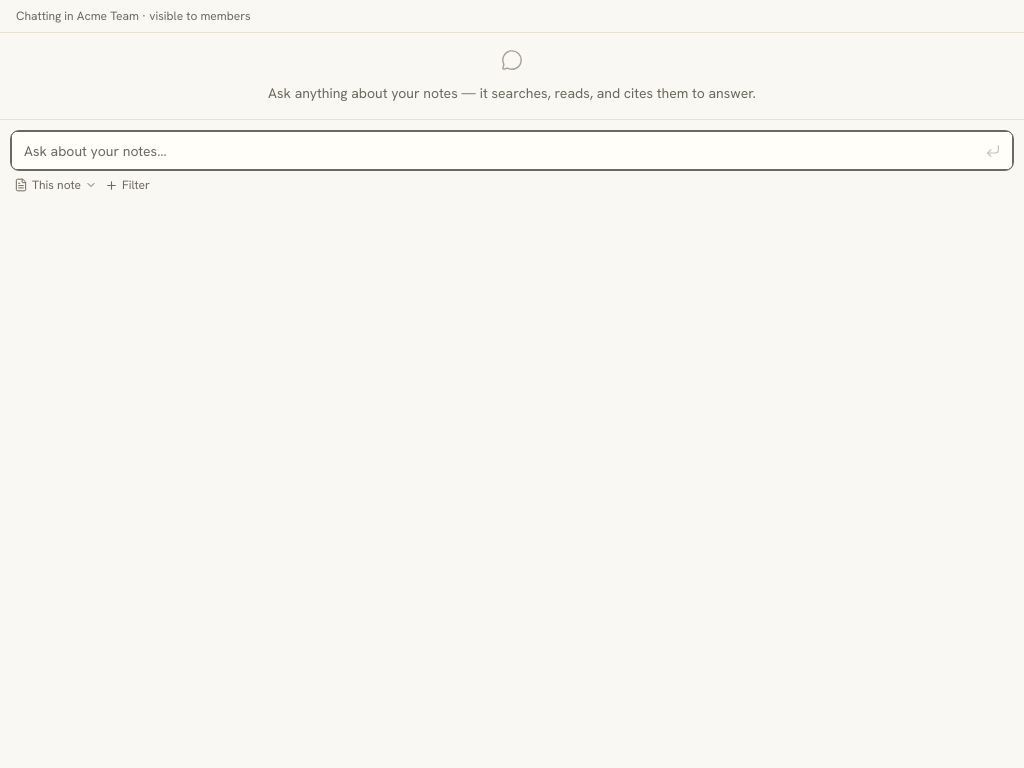
ChatPanel authorship pin › is absent under note breadth, and appears once the scope widens
Check: the text box with placeholder "Ask about your notes…" is shown, box [11, 131, 1013, 170]
Click the button with test id "chat-pin-picker". click: [128, 185]
box: [105, 177, 150, 193]
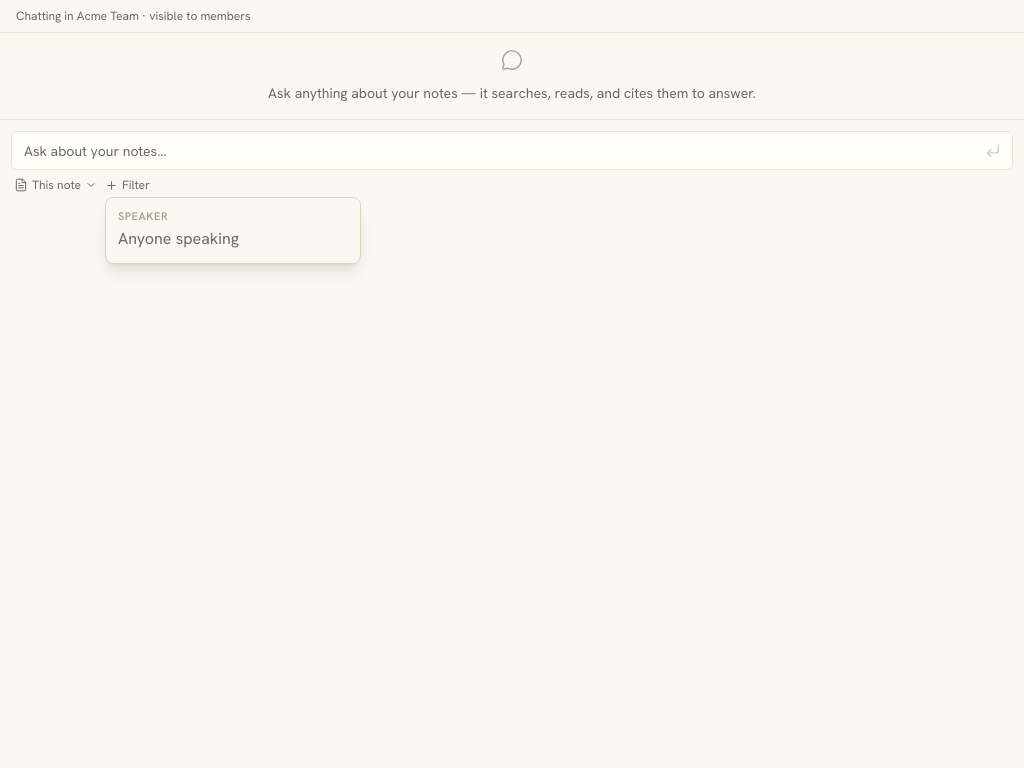
Press Escape
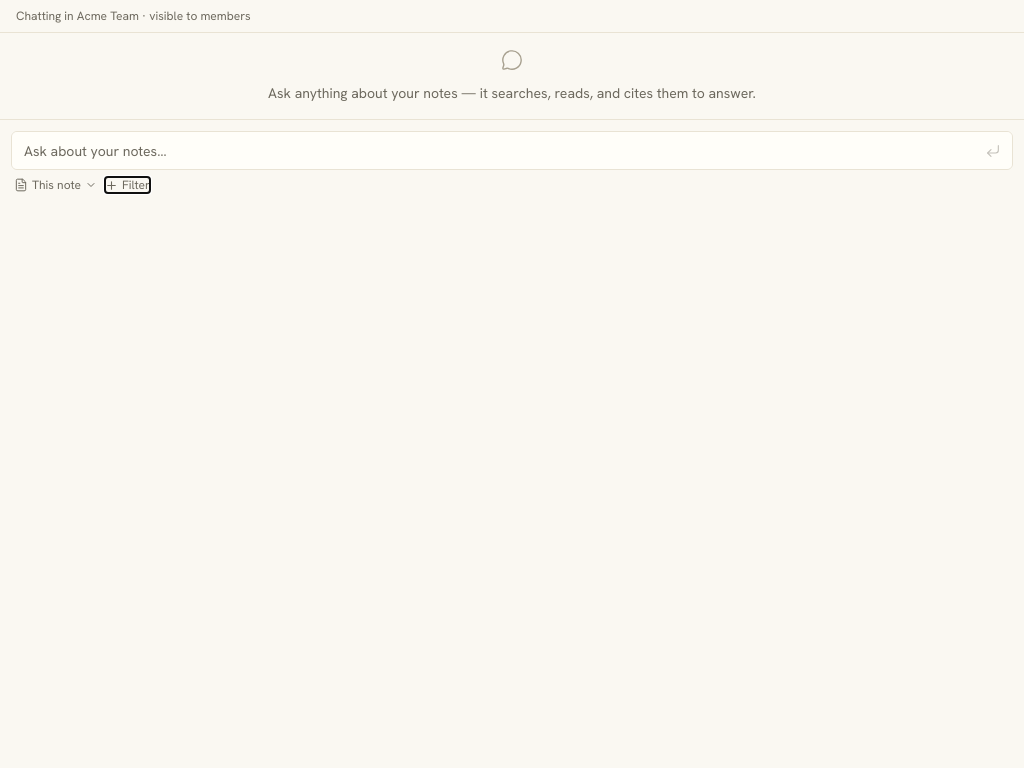
Click the button with aria-label "Chat scope". click: [56, 185]
box: [14, 177, 97, 193]
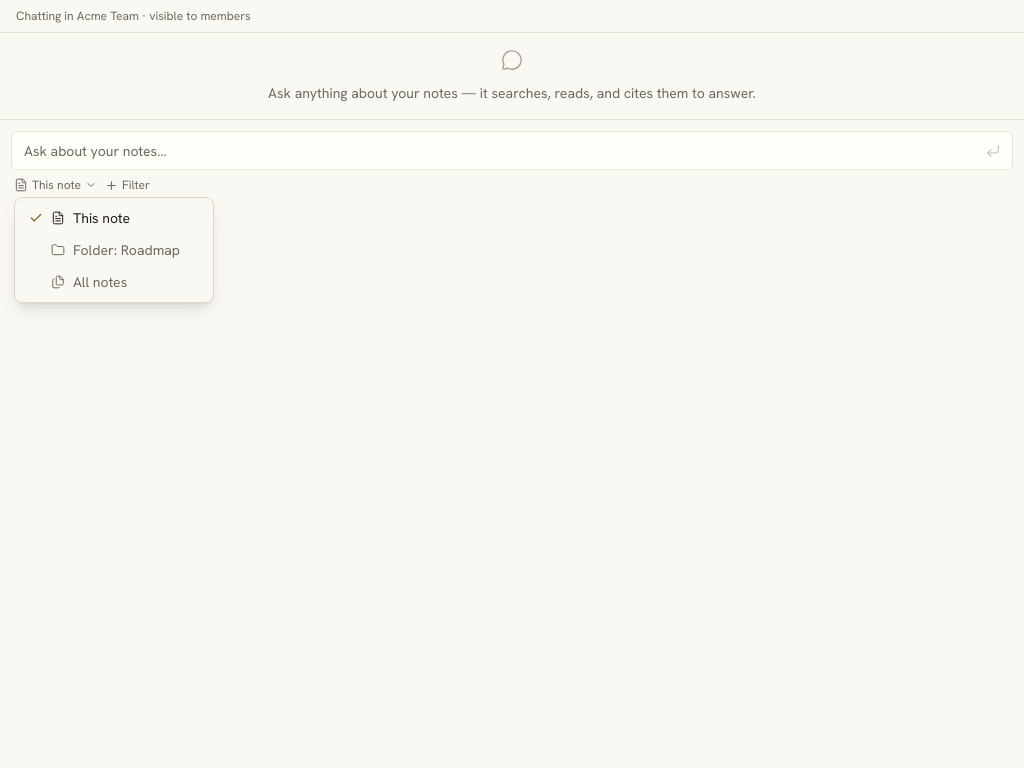
Click the menu item "All notes". click: [89, 282]
box: [51, 273, 127, 291]
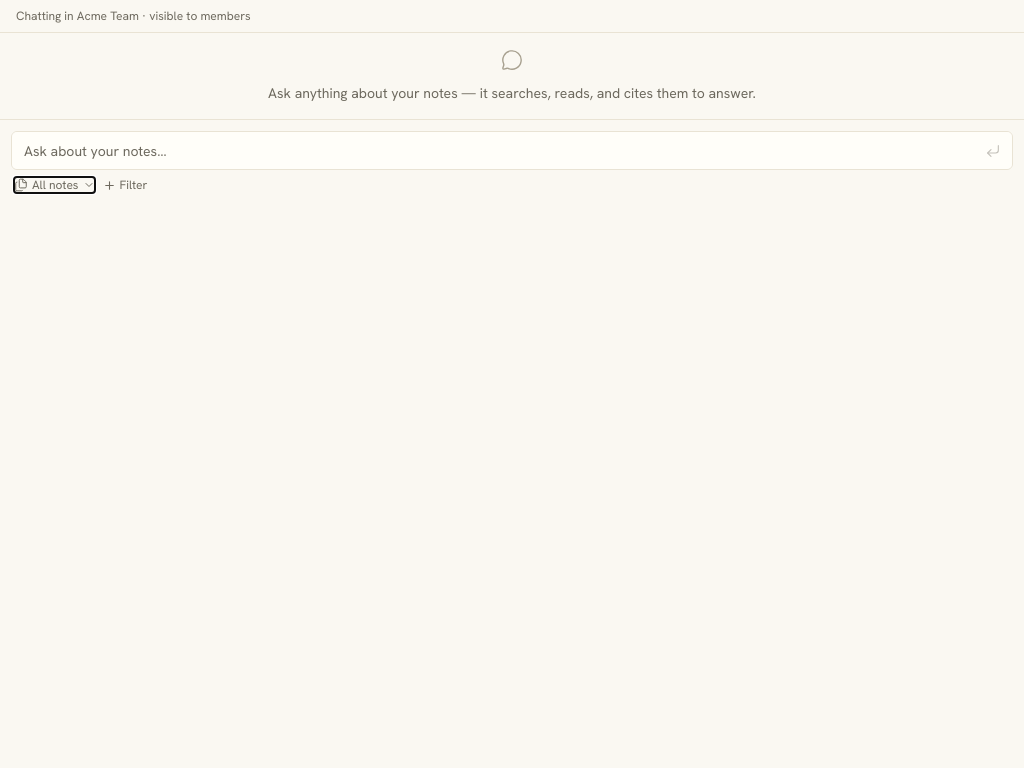
Click the button with test id "chat-pin-picker". click: [125, 185]
box: [102, 177, 148, 193]
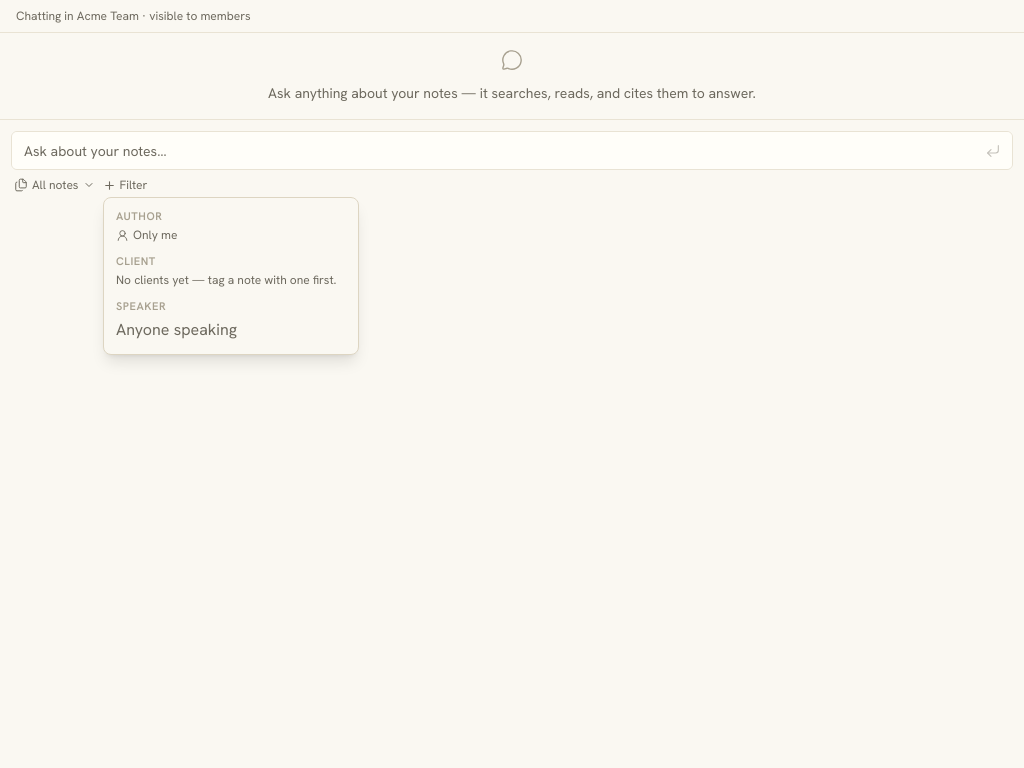
Check: the button "Only me" is shown, box [116, 227, 346, 243]
